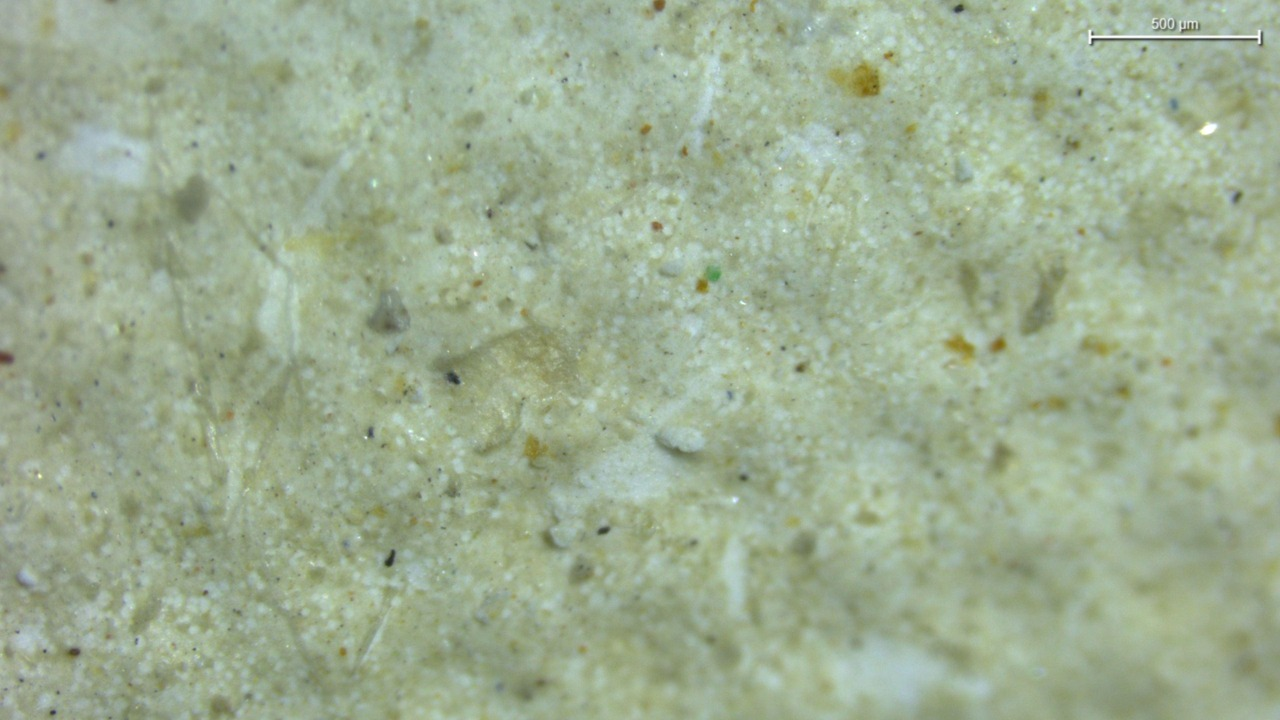microplastic_fragment: (367, 289, 410, 334), (657, 426, 705, 453), (549, 520, 584, 548)
